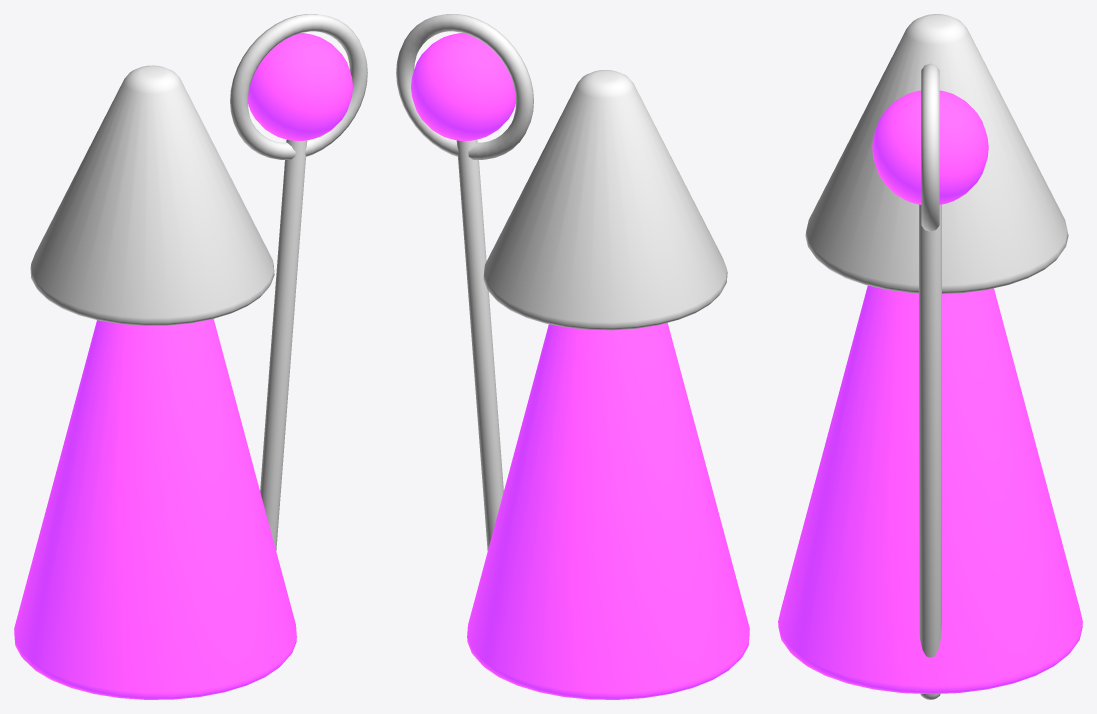
File: hexer.glb
The picture shows the model from 3 angles, left to right: view 1: azimuth 30°, elevation 25°; view 2: azimuth 150°, elevation 25°; view 3: azimuth 270°, elevation 25°; orthographic projection. The views are drawn at different scales.
Parts seen in each view (by area): view 1: Hexer_Robe, Hexer_Hood, Hexer_Orb, Hexer_Staff, Hexer_OrbCage; view 2: Hexer_Robe, Hexer_Hood, Hexer_Orb, Hexer_Staff, Hexer_OrbCage; view 3: Hexer_Robe, Hexer_Hood, Hexer_Staff, Hexer_Orb, Hexer_OrbCage.
Boxes of the visible parts, x1,y1,x2,y2 form: Hexer_Robe: (14,319,296,699); Hexer_Hood: (30,65,274,325); Hexer_Orb: (248,33,352,140); Hexer_Staff: (260,139,307,550); Hexer_OrbCage: (230,14,367,159); Hexer_Robe: (467,323,749,699); Hexer_Hood: (483,70,727,330); Hexer_Orb: (411,33,515,140); Hexer_Staff: (456,139,503,550); Hexer_OrbCage: (396,14,533,159); Hexer_Robe: (778,285,1082,694); Hexer_Hood: (805,14,1068,293); Hexer_Staff: (919,204,941,699); Hexer_Orb: (872,90,988,204); Hexer_OrbCage: (921,63,939,231).
Size of the model in its own units: 1.28 by 2.2 by 0.9412.
